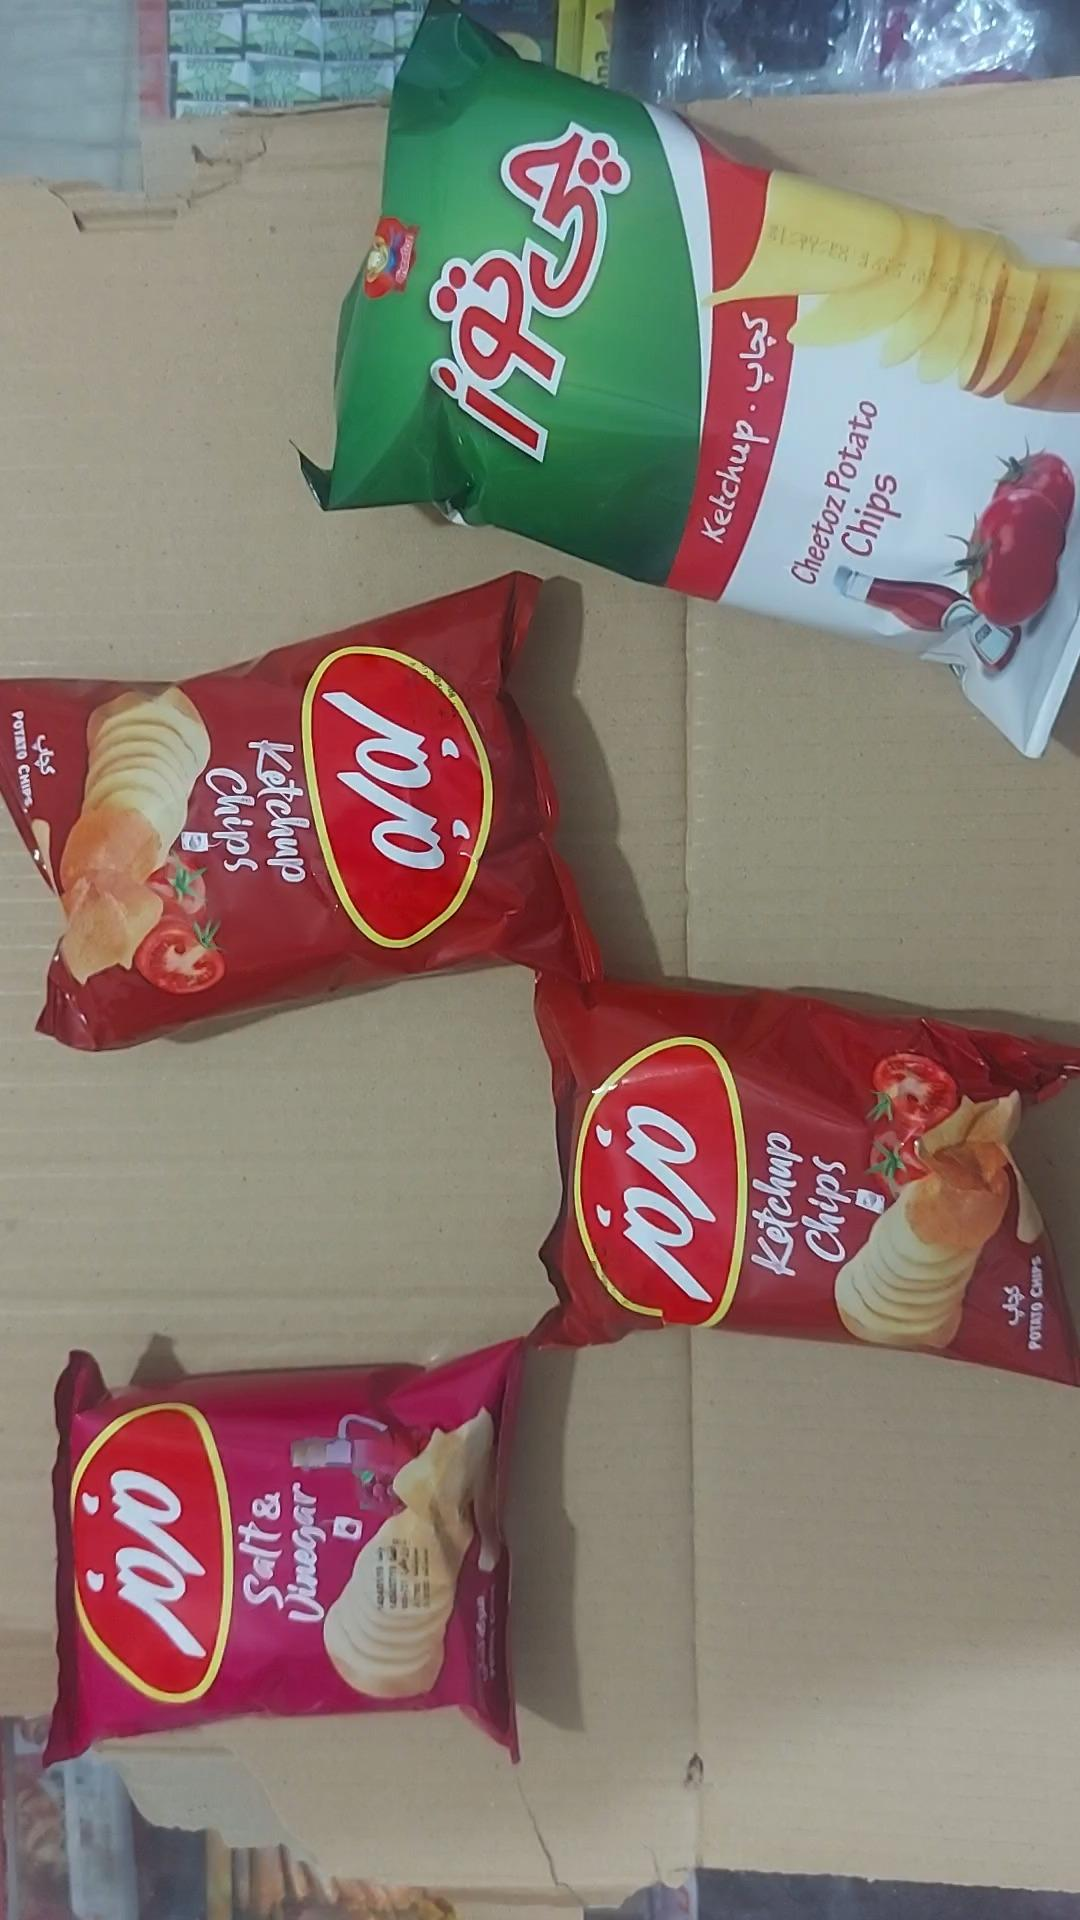Cheetoz ketchup chips: (301, 8, 1079, 762)
Maz Maz ketchup chips: (0, 575, 605, 1058), (534, 975, 1079, 1390)
Maz Maz vinegar chips: (41, 1338, 527, 1768)
